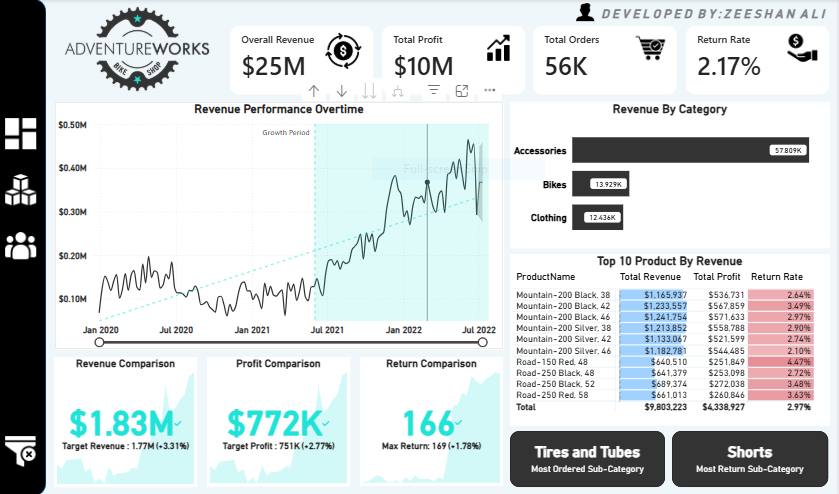

The page's visual inventory and layout, read from the dashboard file:
{"tool":"powerbi","page":{"name":"Dashboard","canvas":[1350,800],"ordinal":0},"visuals":[{"type":"shape","box":[0,0,78.7,798.4],"z":0},{"type":"textbox","box":[957.4,8.3,384.4,43.4],"z":0,"group":"g1"},{"type":"image","box":[924.7,1.8,39.1,39.6],"z":1000,"group":"g1"},{"type":"cardVisual","fields":{"Data":["Measures_Table.Total Revenue"]},"box":[374.3,43.4,229.7,110],"z":1000},{"type":"image","box":[78.9,0.9,293.6,157.3],"z":2000},{"type":"cardVisual","fields":{"Data":["Measures_Table.Total Profit"]},"box":[617.9,43.4,229.7,110],"z":3000},{"type":"cardVisual","fields":{"Data":["Measures_Table.Total Orders"]},"box":[861.6,43.4,231.3,110],"z":4000},{"type":"cardVisual","fields":{"Data":["Measures_Table.Return Rate"]},"box":[1106.8,43.4,229.7,110],"z":5000},{"type":"lineChart","title":"Revenue Performance Overtime","fields":{"Category":["dim_Calendar.Start of Month","dim_Calendar.Start of Week"],"Y":["Measures_Table.Total Revenue"]},"box":[93.2,165.5,719.7,396.8],"z":6000},{"type":"kpi","title":"Revenue Comparison ","fields":{"Indicator":["Measures_Table.Total Revenue"],"TrendLine":["dim_Calendar.Start of Month"],"Goal":["Measures_Table.Previous Month Revenue"]},"box":[91.6,574.7,229.8,209],"z":7000},{"type":"kpi","title":"Profit Comparison ","fields":{"TrendLine":["dim_Calendar.Start of Month"],"Indicator":["Measures_Table.Total Profit"],"Goal":["Measures_Table.Previous Month Profit"]},"box":[336.7,574.7,229.8,208.3],"z":8000},{"type":"kpi","title":"Return Comparison ","fields":{"TrendLine":["dim_Calendar.Start of Month"],"Goal":["Measures_Table.Previous Month Returns"],"Indicator":["Measures_Table.Total Returns"]},"box":[583.1,575.1,229.7,207.2],"z":9000},{"type":"barChart","title":"Revenue By Category ","fields":{"Category":["dim_Categories.CategoryName"],"Y":["Measures_Table.Quantity Sold"]},"box":[824.1,165.5,514.1,234.5],"z":10000},{"type":"pivotTable","title":"Top 10 Product By Revenue","fields":{"Rows":["dim_Products.ProductName"],"Values":["Measures_Table.Total Revenue","Measures_Table.Total Profit","Measures_Table.Return Rate"]},"box":[824.5,409.1,513.6,276.4],"z":11000},{"type":"card","fields":{"Values":["Min(dim_Subcategories.SubcategoryName)"]},"box":[824.1,694,249,90],"z":12000},{"type":"card","fields":{"Values":["Min(dim_Subcategories.SubcategoryName)"]},"box":[1084.3,694,250.6,90],"z":13000},{"type":"group","id":"g1","title":"Group 1","box":[924.7,1.8,417.2,50],"z":14000},{"type":"image","box":[8.7,186.2,60,60],"z":15000},{"type":"image","box":[8.4,276.9,60,60],"z":16000},{"type":"image","box":[8.7,366.1,60,60],"z":17000},{"type":"image","box":[8,697.2,59.4,59.4],"z":18000}]}

Visuals, with their boxes on the page's 1350x800 design canvas (x1, y1, x2, y2). These are canvas units, not pixel positions in the 839x494 screenshot, which may show the page scaled, cropped or inside an application window:
shape: (x1=0, y1=0, x2=79, y2=798)
textbox: (x1=957, y1=8, x2=1342, y2=52)
image: (x1=925, y1=2, x2=964, y2=41)
cardVisual - Measures_Table.Total Revenue: (x1=374, y1=43, x2=604, y2=153)
image: (x1=79, y1=1, x2=372, y2=158)
cardVisual - Measures_Table.Total Profit: (x1=618, y1=43, x2=848, y2=153)
cardVisual - Measures_Table.Total Orders: (x1=862, y1=43, x2=1093, y2=153)
cardVisual - Measures_Table.Return Rate: (x1=1107, y1=43, x2=1336, y2=153)
"Revenue Performance Overtime" lineChart: (x1=93, y1=166, x2=813, y2=562)
"Revenue Comparison " kpi: (x1=92, y1=575, x2=321, y2=784)
"Profit Comparison " kpi: (x1=337, y1=575, x2=566, y2=783)
"Return Comparison " kpi: (x1=583, y1=575, x2=813, y2=782)
"Revenue By Category " barChart: (x1=824, y1=166, x2=1338, y2=400)
"Top 10 Product By Revenue" pivotTable: (x1=824, y1=409, x2=1338, y2=686)
card - Min(dim_Subcategories.SubcategoryName): (x1=824, y1=694, x2=1073, y2=784)
card - Min(dim_Subcategories.SubcategoryName): (x1=1084, y1=694, x2=1335, y2=784)
"Group 1" group: (x1=925, y1=2, x2=1342, y2=52)
image: (x1=9, y1=186, x2=69, y2=246)
image: (x1=8, y1=277, x2=68, y2=337)
image: (x1=9, y1=366, x2=69, y2=426)
image: (x1=8, y1=697, x2=67, y2=757)
